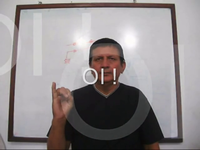oi: (50, 81, 76, 122)
